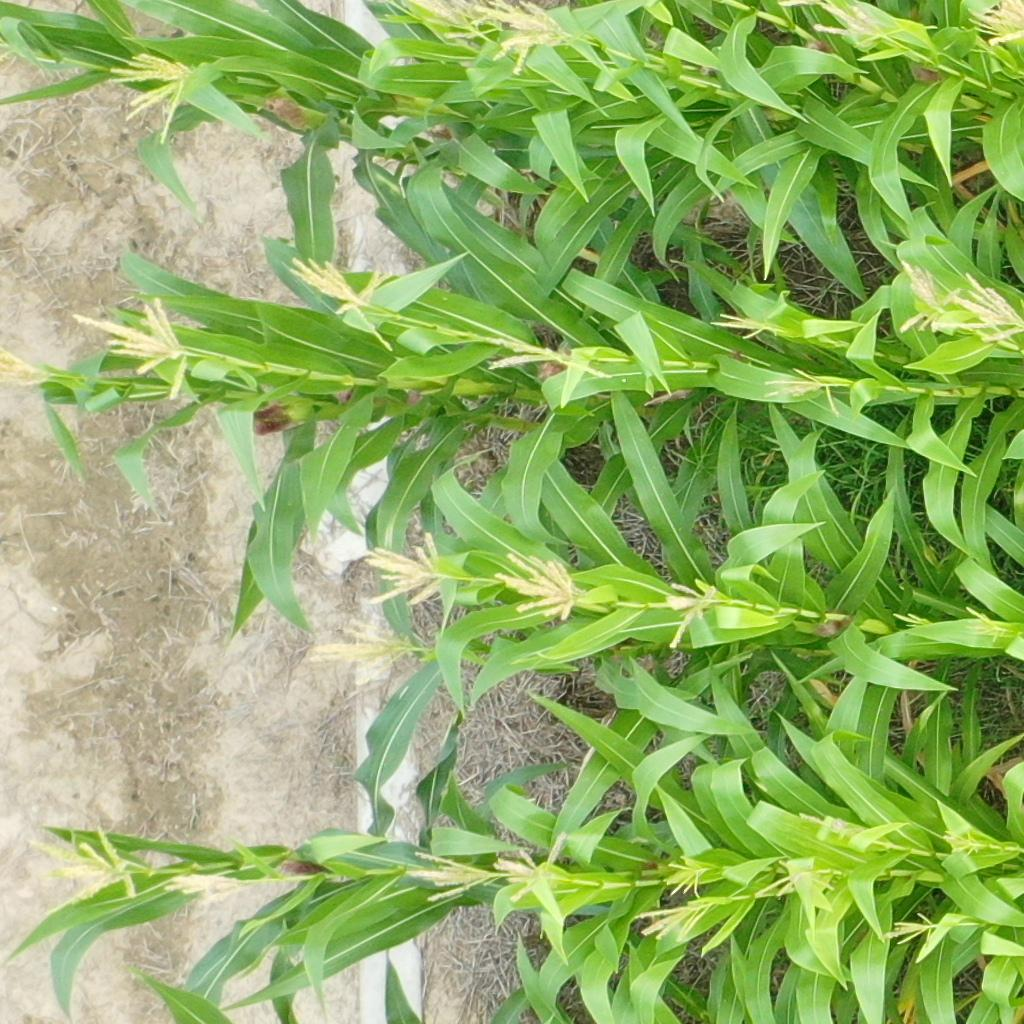Tassel: (70, 291, 191, 402), (283, 247, 402, 350), (19, 825, 141, 903), (101, 44, 194, 145), (472, 330, 614, 387), (355, 533, 451, 614), (306, 616, 417, 686), (472, 1, 572, 75), (489, 551, 585, 621), (944, 267, 1024, 347), (492, 831, 569, 908), (896, 253, 964, 333), (400, 848, 494, 902), (660, 575, 719, 654), (760, 365, 844, 417), (754, 855, 840, 904), (390, 1, 490, 43), (809, 1, 891, 52), (632, 896, 714, 946), (159, 868, 249, 903), (968, 1, 1024, 46), (1, 343, 51, 391), (706, 305, 776, 339), (882, 912, 937, 952), (962, 607, 1017, 645), (662, 855, 706, 899), (794, 807, 852, 839), (941, 826, 984, 854), (892, 609, 931, 634), (1, 35, 23, 69)
